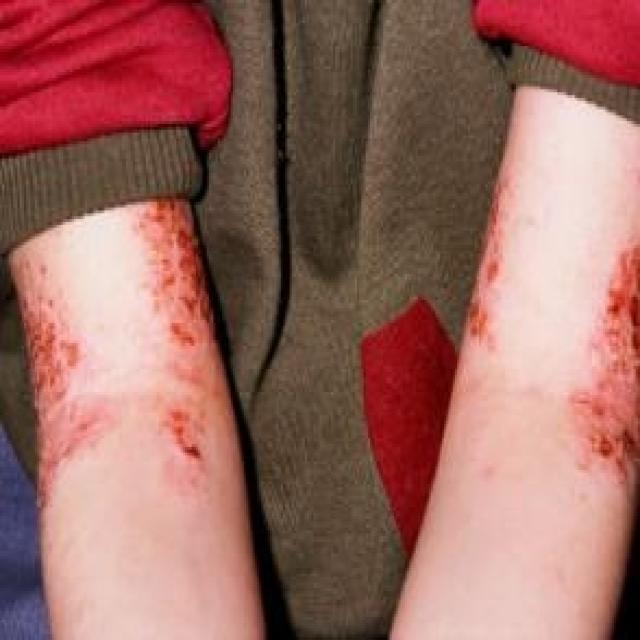Eczema: (7, 197, 209, 503), (569, 243, 640, 514), (461, 169, 510, 365)
